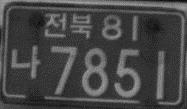1: (155, 47, 167, 103), (131, 12, 139, 44)
5: (114, 45, 143, 100)
7: (49, 44, 77, 99)
8: (81, 45, 111, 100), (102, 12, 122, 42)
나: (10, 42, 42, 79)
전북_O: (43, 10, 93, 39)
